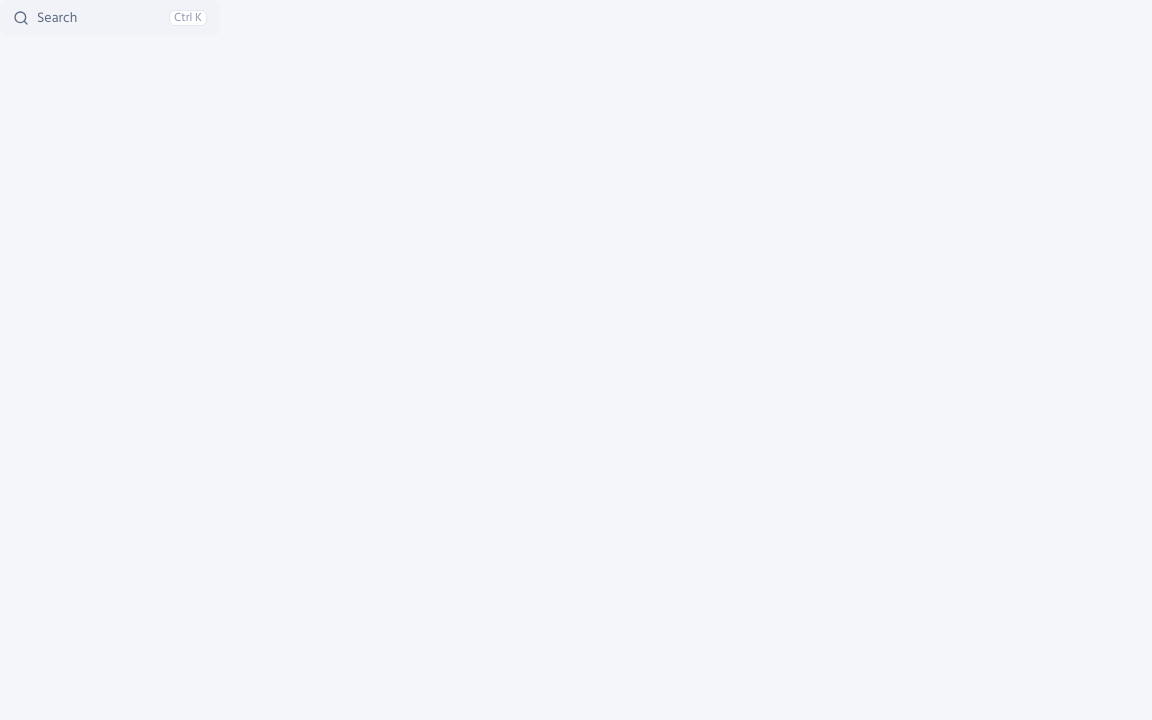
it: CommandPalette › opens with Ctrl+K and filters the screens it was given
Type keys "{Control>}k{/Control}"
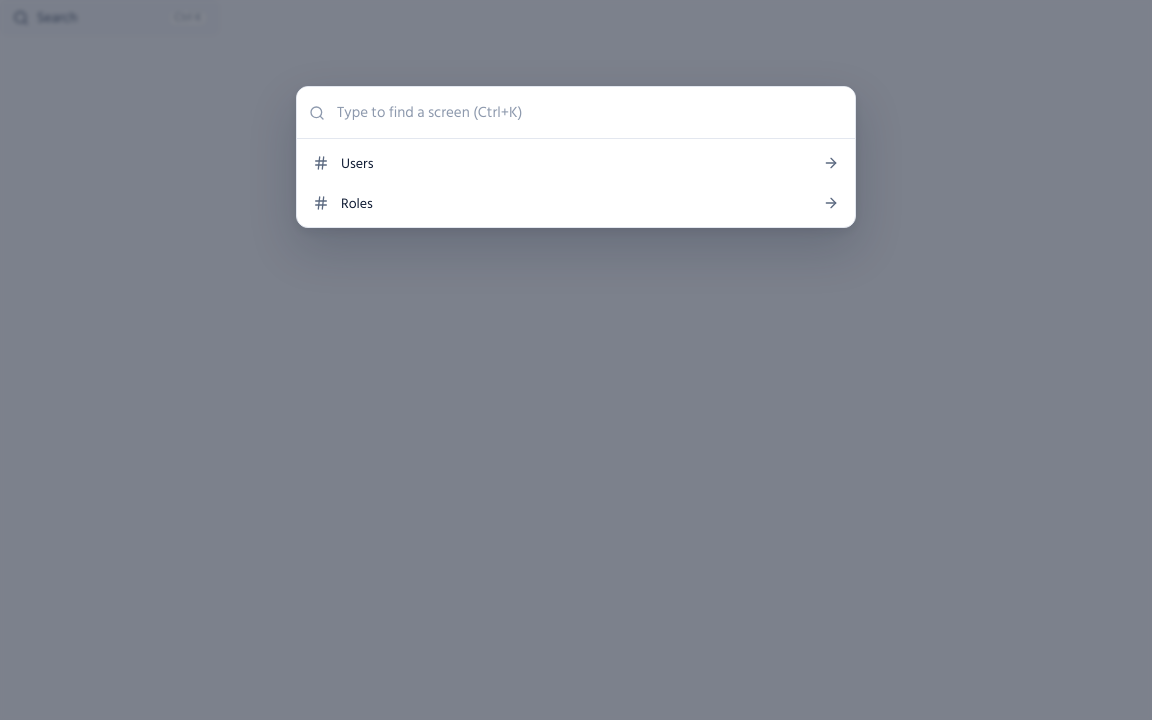
Type "rol" into the search field with placeholder "Type to find a screen (Ctrl+K)" at (576, 113), box [297,87,855,139]
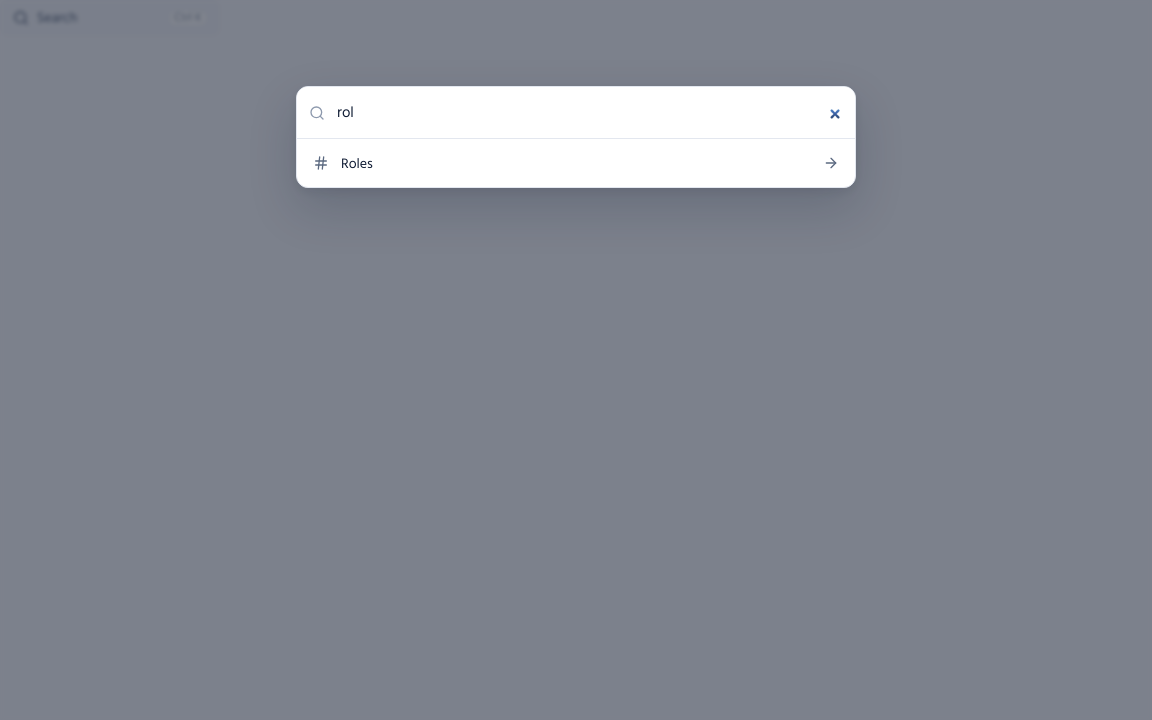
Check: the button "Roles" is shown, box [301,143,851,183]
Check: the button "Users" is gone
